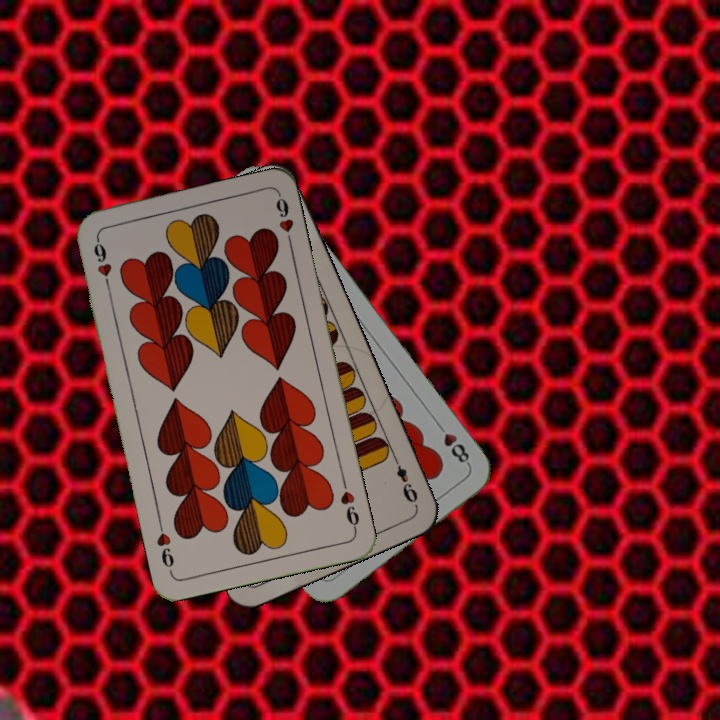E9: (389, 452, 421, 509)
H8: (432, 418, 473, 468)
H9: (336, 475, 362, 534), (89, 233, 114, 292)
